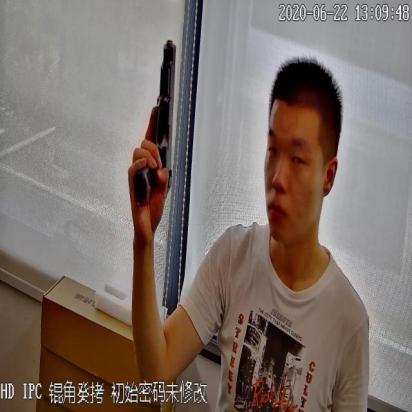Gun: (126, 35, 177, 210)
